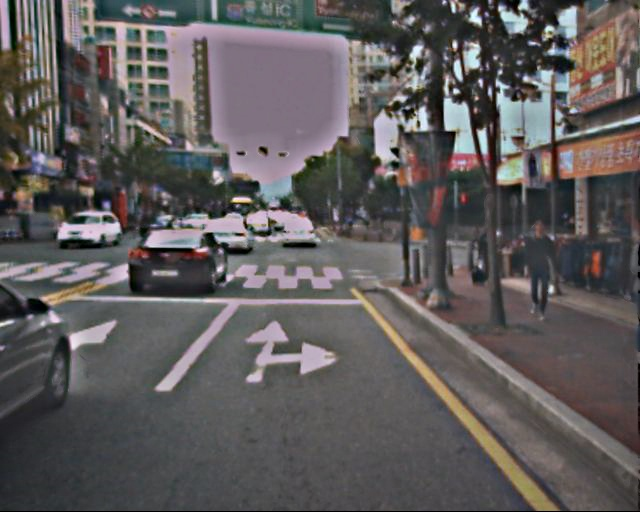person: (517, 219, 559, 322), (616, 221, 640, 361), (474, 223, 505, 290)
